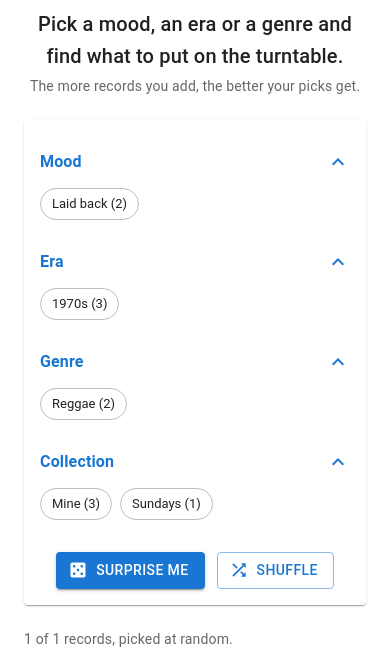
Test: SpinningNow page › refetches with the selected filters and can clear them
The width and height of the screenshot is (390, 665).
Click the button "Laid back (2)" at (90, 204), box [40,188,139,220]
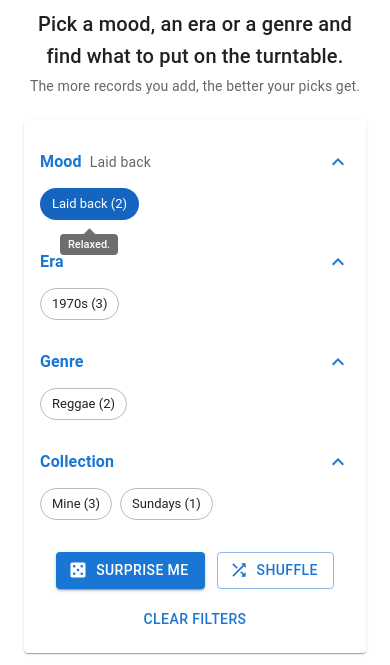
Click the button "1970s (3)" at (80, 304), box [40,288,120,320]
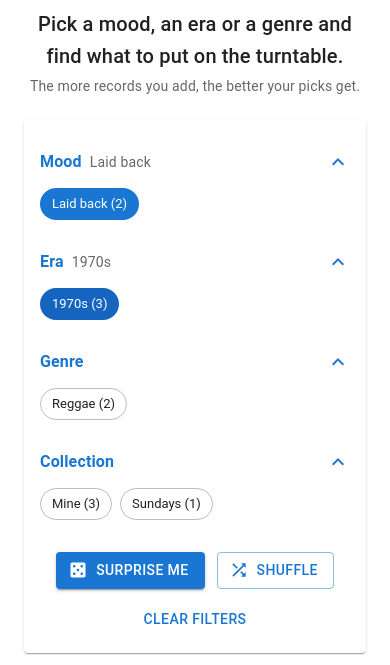
Click the button "Clear filters" at (195, 619), box [136,600,254,637]
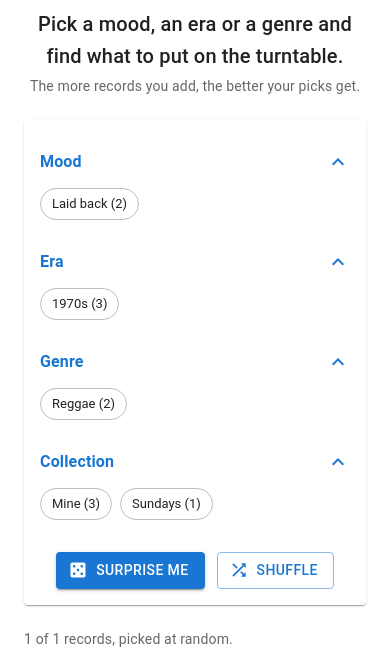
Check: the button "Clear filters" is gone
